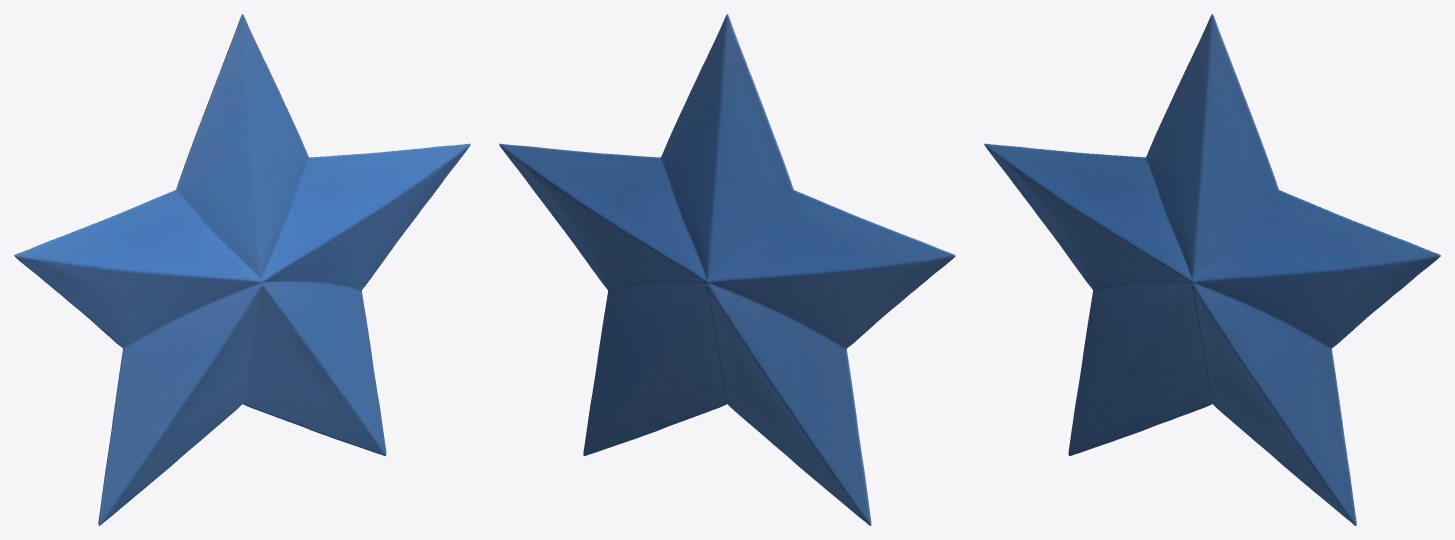
The model's file is blue+star+3d+model.glb.
3 renders of one model, left to right at view 1: azimuth 30°, elevation 25°; view 2: azimuth 150°, elevation 25°; view 3: azimuth 330°, elevation 25°, orthographic.
Parts seen in each view (by area): view 1: tripo_node_47e2d370-211c-4c3c-9712-71357a45e911; view 2: tripo_node_47e2d370-211c-4c3c-9712-71357a45e911; view 3: tripo_node_47e2d370-211c-4c3c-9712-71357a45e911.
Part boxes in pixels (x1,y1,x2,y2): tripo_node_47e2d370-211c-4c3c-9712-71357a45e911: (14, 14, 470, 525); tripo_node_47e2d370-211c-4c3c-9712-71357a45e911: (499, 14, 955, 525); tripo_node_47e2d370-211c-4c3c-9712-71357a45e911: (984, 14, 1440, 525).
Size of the model in its own units: 1 by 0.998 by 0.1516.
1 material, 1 textured.
